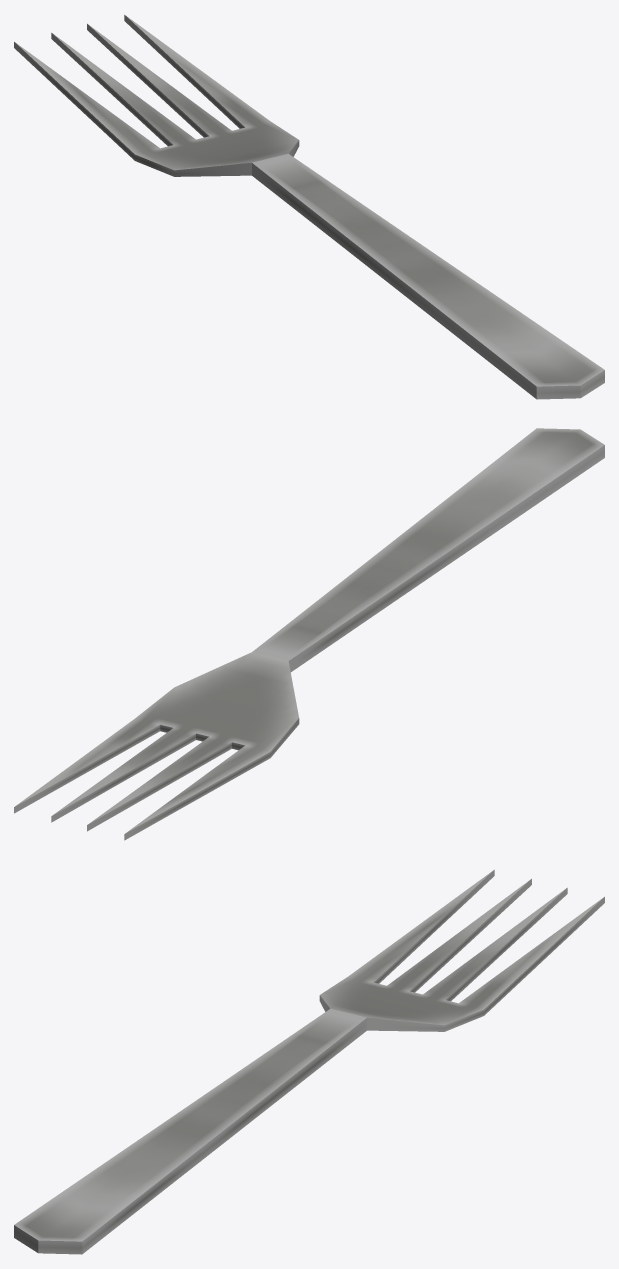
Rendered from KR_Fork_01_01.fbx.
3 views of the same model, one above another, from view 1: azimuth 30°, elevation 25°; view 2: azimuth 150°, elevation 25°; view 3: azimuth 330°, elevation 25° (orthographic).
Parts seen in each view (by area): view 1: kr_fork_01_01; view 2: kr_fork_01_01; view 3: kr_fork_01_01.
Boxes of the visible parts, left/top/right/bottom form: kr_fork_01_01: left=14, top=14, right=604, bottom=399; kr_fork_01_01: left=14, top=428, right=604, bottom=840; kr_fork_01_01: left=14, top=869, right=604, bottom=1254.
Size of the model in its own units: 2.76 by 0.6903 by 18.
